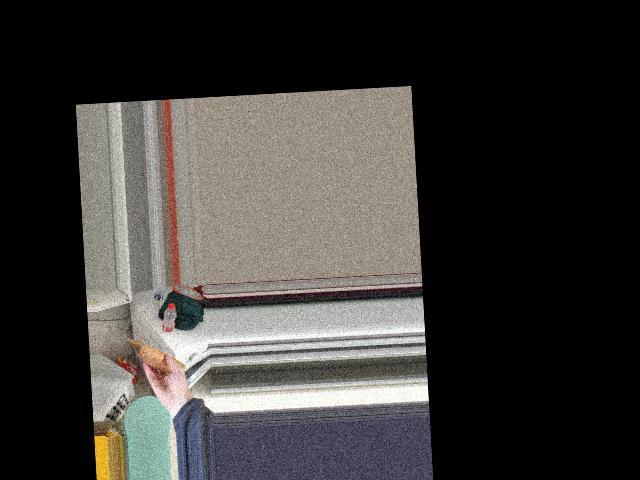sweet_potato: (142, 345, 179, 372)
